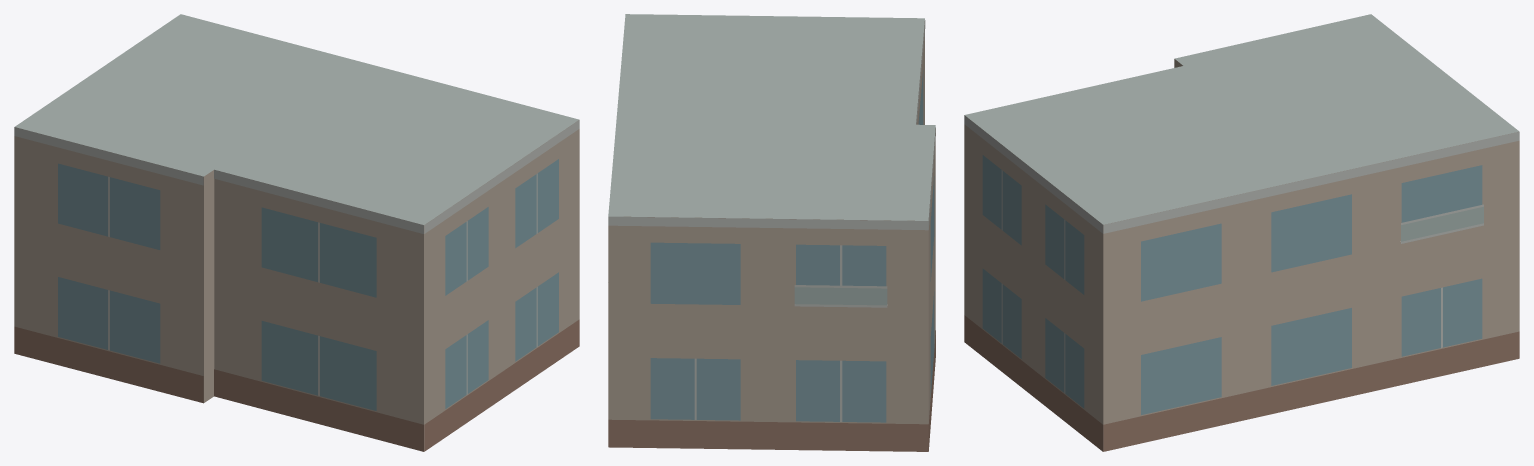
The model's file is survey-upis-32906180.glb.
3 views of the same model, side by side, from view 1: azimuth 30°, elevation 25°; view 2: azimuth 150°, elevation 25°; view 3: azimuth 270°, elevation 25° (orthographic).
Visible parts, largest first — view 1: survey-upis-32906180.tmp; view 2: survey-upis-32906180.tmp; view 3: survey-upis-32906180.tmp.
Part boxes in pixels (box(x1,y1,x2,y2)): survey-upis-32906180.tmp: box(14, 14, 579, 451); survey-upis-32906180.tmp: box(608, 14, 935, 451); survey-upis-32906180.tmp: box(964, 14, 1519, 451).
Bounding box in the file's own units: 12.16 × 6.1 × 13.53.
